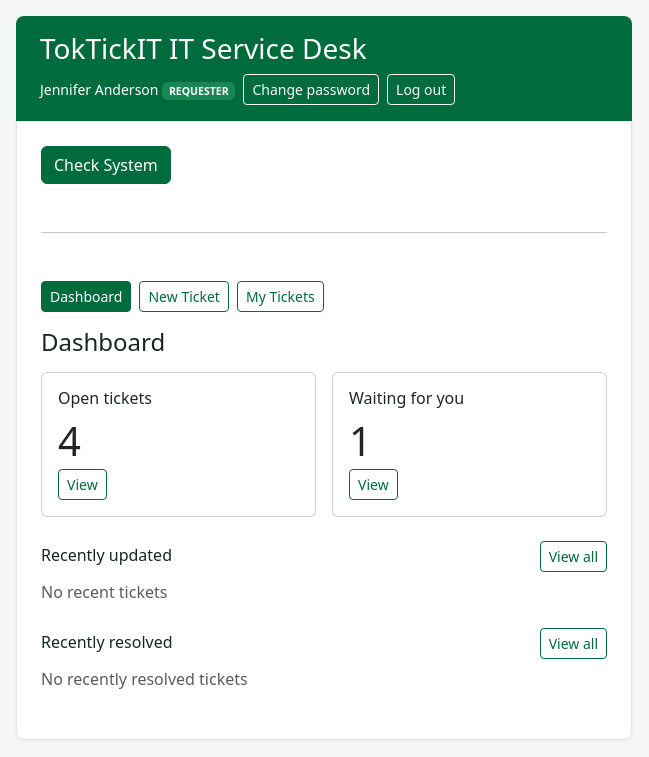
Scenario: App Shell › dashboard drill-down links (ui-spec.md §2, §3) › Requester: 'View 4 open tickets' opens My Tickets showing open tickets
What coordinates should you click on to do the following:
click the link with aria-label "View 4 open tickets"
I would click on:
 (82, 484)
Its box is [58, 469, 107, 500].
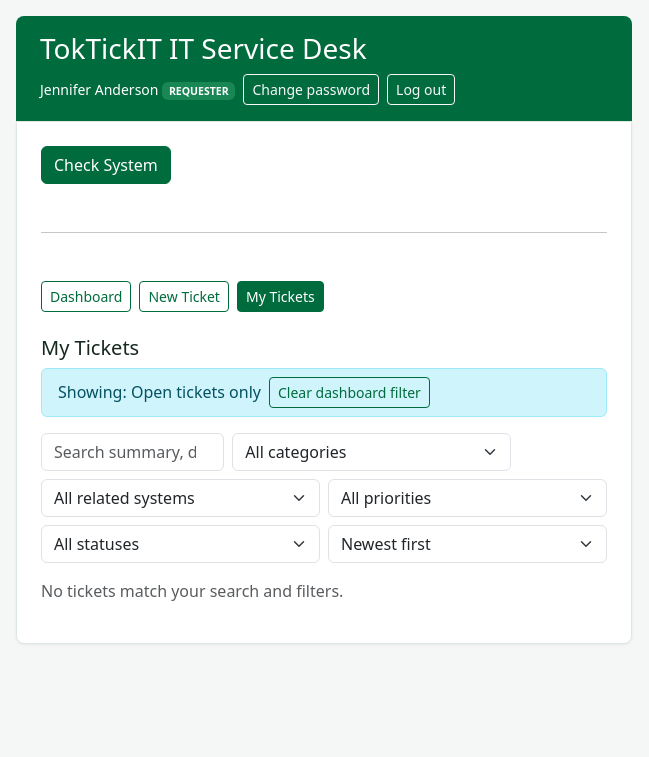
Expected: the heading "My Tickets" is shown, [41, 334, 139, 361]
